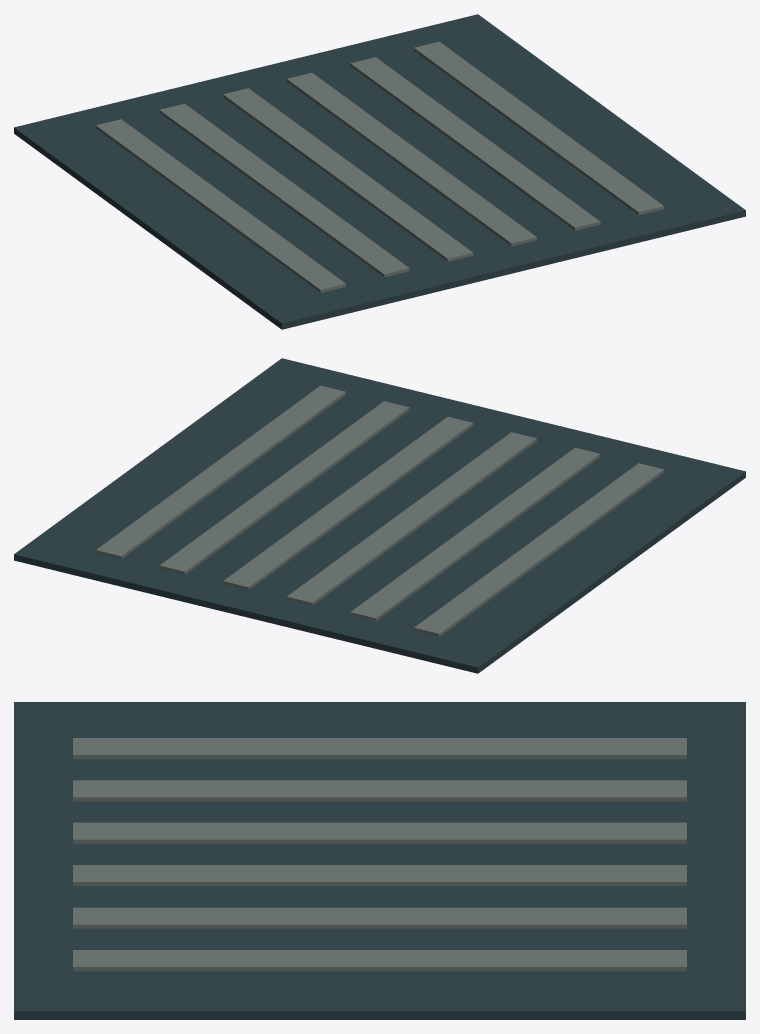
The model's file is floor-drain-grate.glb.
3 views of the same model, one above another, from view 1: azimuth 30°, elevation 25°; view 2: azimuth 150°, elevation 25°; view 3: azimuth 270°, elevation 25° (orthographic). The views are drawn at different scales.
Visible parts, largest first — view 1: floor-drain-grate__floor-drain-grate__steel, floor-drain-grate__floor-drain-grate__hardware; view 2: floor-drain-grate__floor-drain-grate__steel, floor-drain-grate__floor-drain-grate__hardware; view 3: floor-drain-grate__floor-drain-grate__steel, floor-drain-grate__floor-drain-grate__hardware.
Boxes of the visible parts, x1,y1,x2,y2 form: floor-drain-grate__floor-drain-grate__steel: (14, 14, 745, 329); floor-drain-grate__floor-drain-grate__hardware: (96, 41, 663, 292); floor-drain-grate__floor-drain-grate__steel: (14, 358, 745, 673); floor-drain-grate__floor-drain-grate__hardware: (96, 385, 663, 636); floor-drain-grate__floor-drain-grate__steel: (14, 702, 745, 1019); floor-drain-grate__floor-drain-grate__hardware: (73, 738, 686, 971).
Size of the model in its own units: 0.62 by 0.012 by 0.62.
